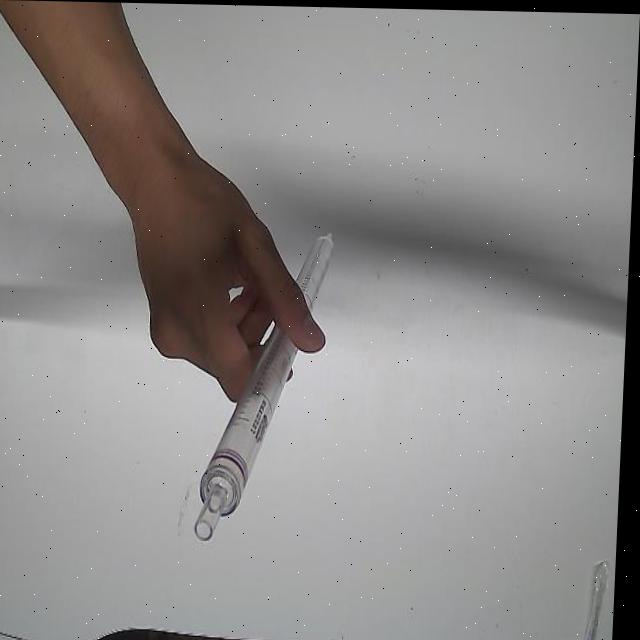Serelogical Pipet 50 mL: (192, 222, 343, 547)
